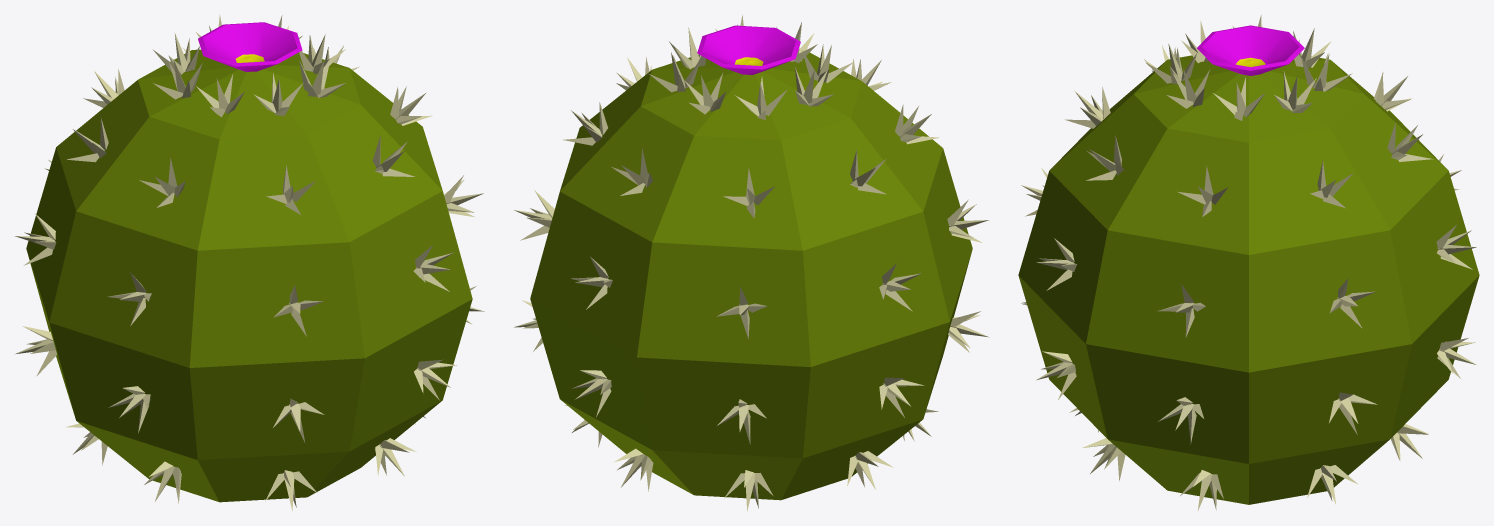
File: Cactus01.fbx
3 views of the same model, side by side, from view 1: azimuth 30°, elevation 25°; view 2: azimuth 150°, elevation 25°; view 3: azimuth 270°, elevation 25° (orthographic).
Parts seen in each view (by area): view 1: pSphere2; view 2: pSphere2; view 3: pSphere2.
Boxes of the visible parts, x1,y1,x2,y2 form: pSphere2: (15, 14, 484, 511); pSphere2: (514, 15, 988, 511); pSphere2: (1018, 15, 1479, 511).
Size of the model in its own units: 2 by 2.1 by 2.
